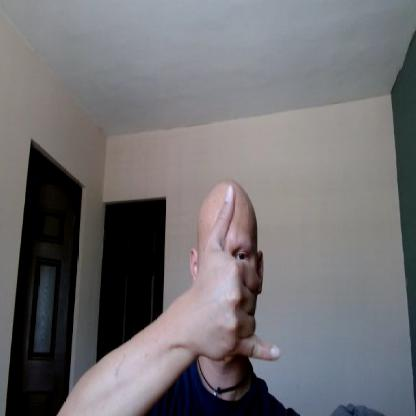Y: (195, 183, 282, 366)
